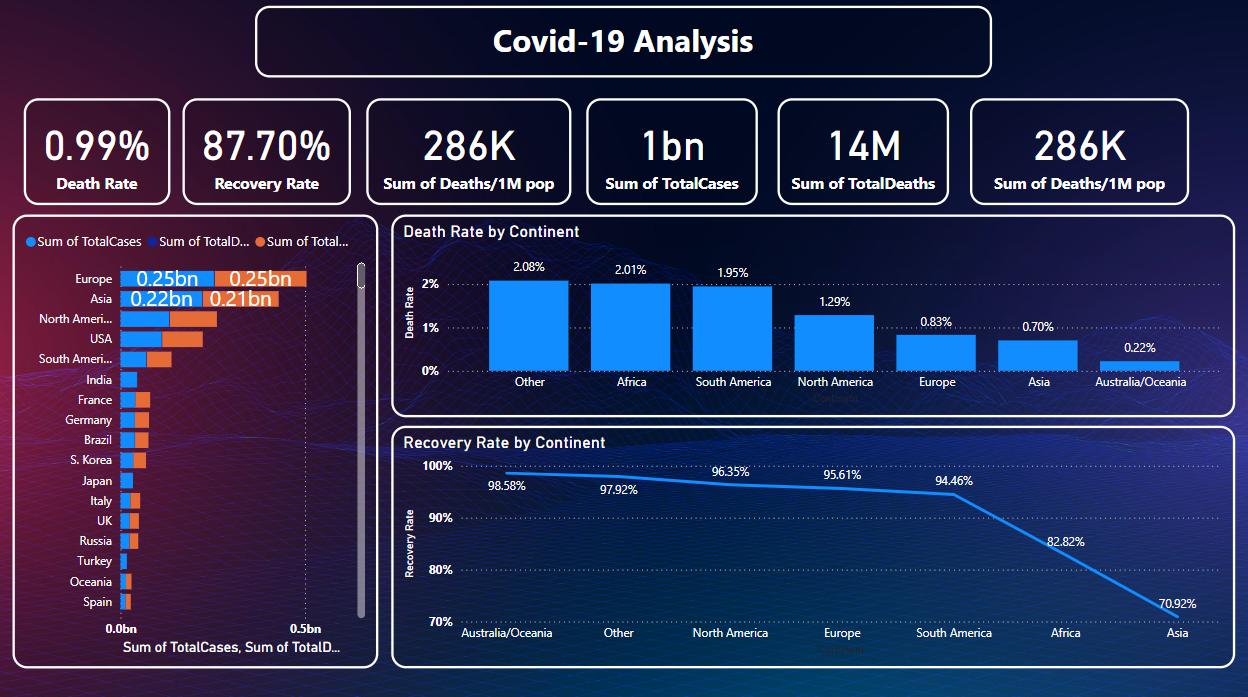

What the dashboard file says about the page in this screenshot:
{"tool":"powerbi","page":{"name":"Page 1","canvas":[1280,720],"ordinal":0},"visuals":[{"type":"textbox","box":[261.9,9.5,756,73.8],"z":0},{"type":"card","fields":{"Values":["Table 2.Death Rate"]},"box":[23.8,103.6,150,109.5],"z":1000},{"type":"card","fields":{"Values":["Table 2.Recovery Rate"]},"box":[186.9,103.6,172.6,109.5],"z":2000},{"type":"card","fields":{"Values":["Sum(Table 2.Deaths/1M pop)"]},"box":[375,103.6,210.7,109.5],"z":3000},{"type":"card","fields":{"Values":["Sum(Table 2.TotalCases)"]},"box":[601.2,103.6,176.2,109.5],"z":4000},{"type":"card","fields":{"Values":["Sum(Table 2.TotalDeaths)"]},"box":[797.6,103.6,176.2,109.5],"z":5000},{"type":"card","fields":{"Values":["Sum(Table 2.Deaths/1M pop)"]},"box":[995.2,103.6,225,109.5],"z":6000},{"type":"columnChart","fields":{"Category":["Table 2.Continent"],"Y":["Table 2.Death Rate"]},"box":[401.2,222.6,865.5,208.3],"z":7000},{"type":"barChart","title":"Sum Of Total Cases, Death, Recovered By Country","fields":{"Category":["Table 2.Country,Other"],"Y":["Sum(Table 2.TotalCases)","Sum(Table 2.TotalDeaths)","Sum(Table 2.TotalRecovered)"]},"box":[13.1,222.6,375,465.5],"z":8000},{"type":"lineChart","fields":{"Category":["Table 2.Continent"],"Y":["Table 2.Recovery Rate"]},"box":[401.2,439.3,865.5,248.8],"z":8001}]}

Visuals, with their boxes in screenshot pixels (x1, y1, x2, y2), scaled from the page's 1280x720 canvas onto the 1248x697 screenshot:
textbox: [255, 9, 992, 81]
card - Table 2.Death Rate: [23, 100, 169, 206]
card - Table 2.Recovery Rate: [182, 100, 351, 206]
card - Sum(Table 2.Deaths/1M pop): [366, 100, 571, 206]
card - Sum(Table 2.TotalCases): [586, 100, 758, 206]
card - Sum(Table 2.TotalDeaths): [778, 100, 949, 206]
card - Sum(Table 2.Deaths/1M pop): [970, 100, 1190, 206]
columnChart - Table 2.Continent x Table 2.Death Rate: [391, 215, 1235, 417]
"Sum Of Total Cases, Death, Recovered By Country" barChart: [13, 215, 378, 666]
lineChart - Table 2.Continent x Table 2.Recovery Rate: [391, 425, 1235, 666]
